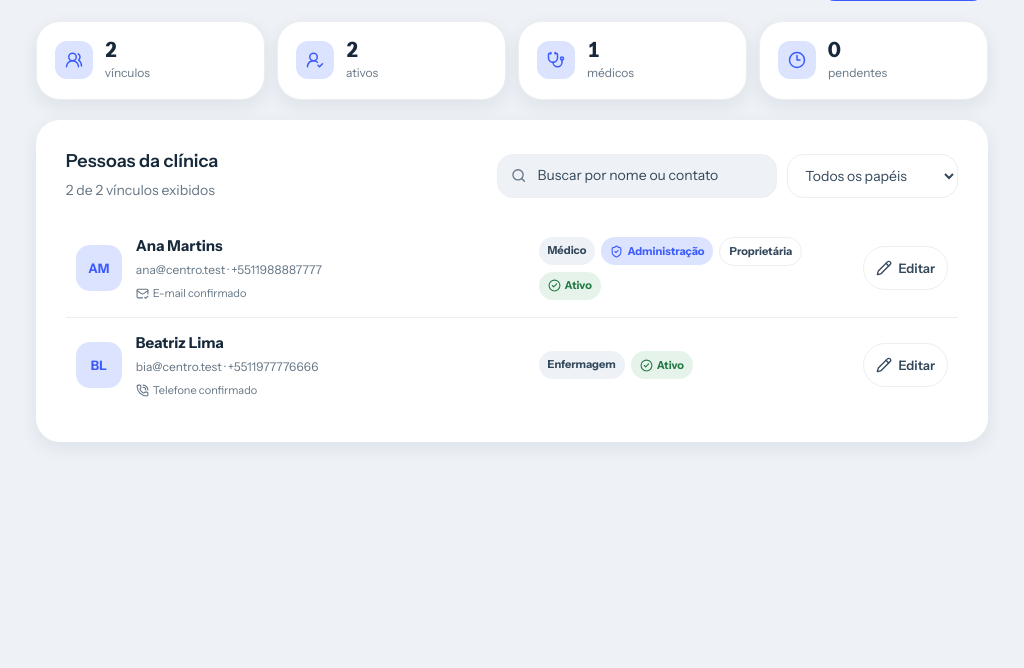
Scenario: bloqueia suspensão e remoção administrativa do proprietário
The width and height of the screenshot is (1024, 668).
Click the button with aria-label "Editar vínculo de Ana Martins". click: (906, 268)
box: 864,246 -> 948,290
(page scrolled)
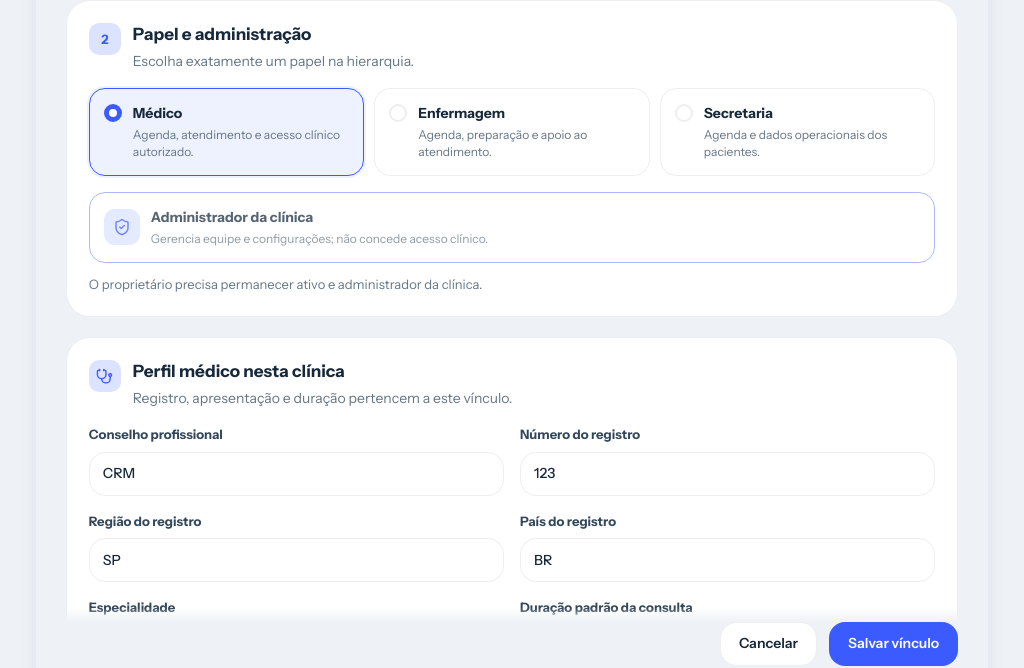
Expected: the checkbox labelled "Administrador da clínica" is disabled, 89,192 -> 935,263
Expected: the text "O proprietário precisa permanecer ativo e administrador" is shown, 89,276 -> 482,292
